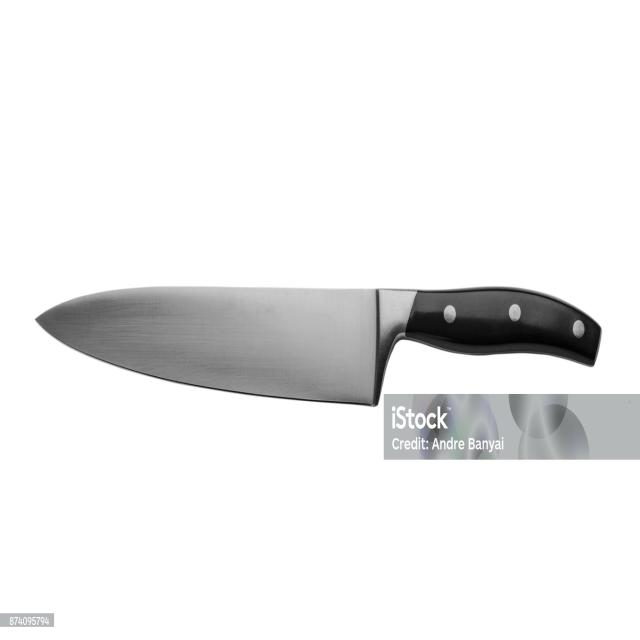Knife: (38, 287, 599, 405)
